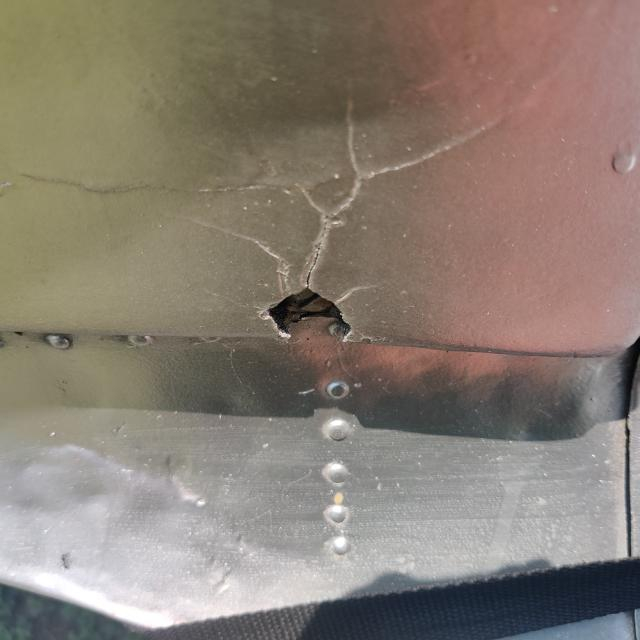crack: (200, 77, 490, 356)
